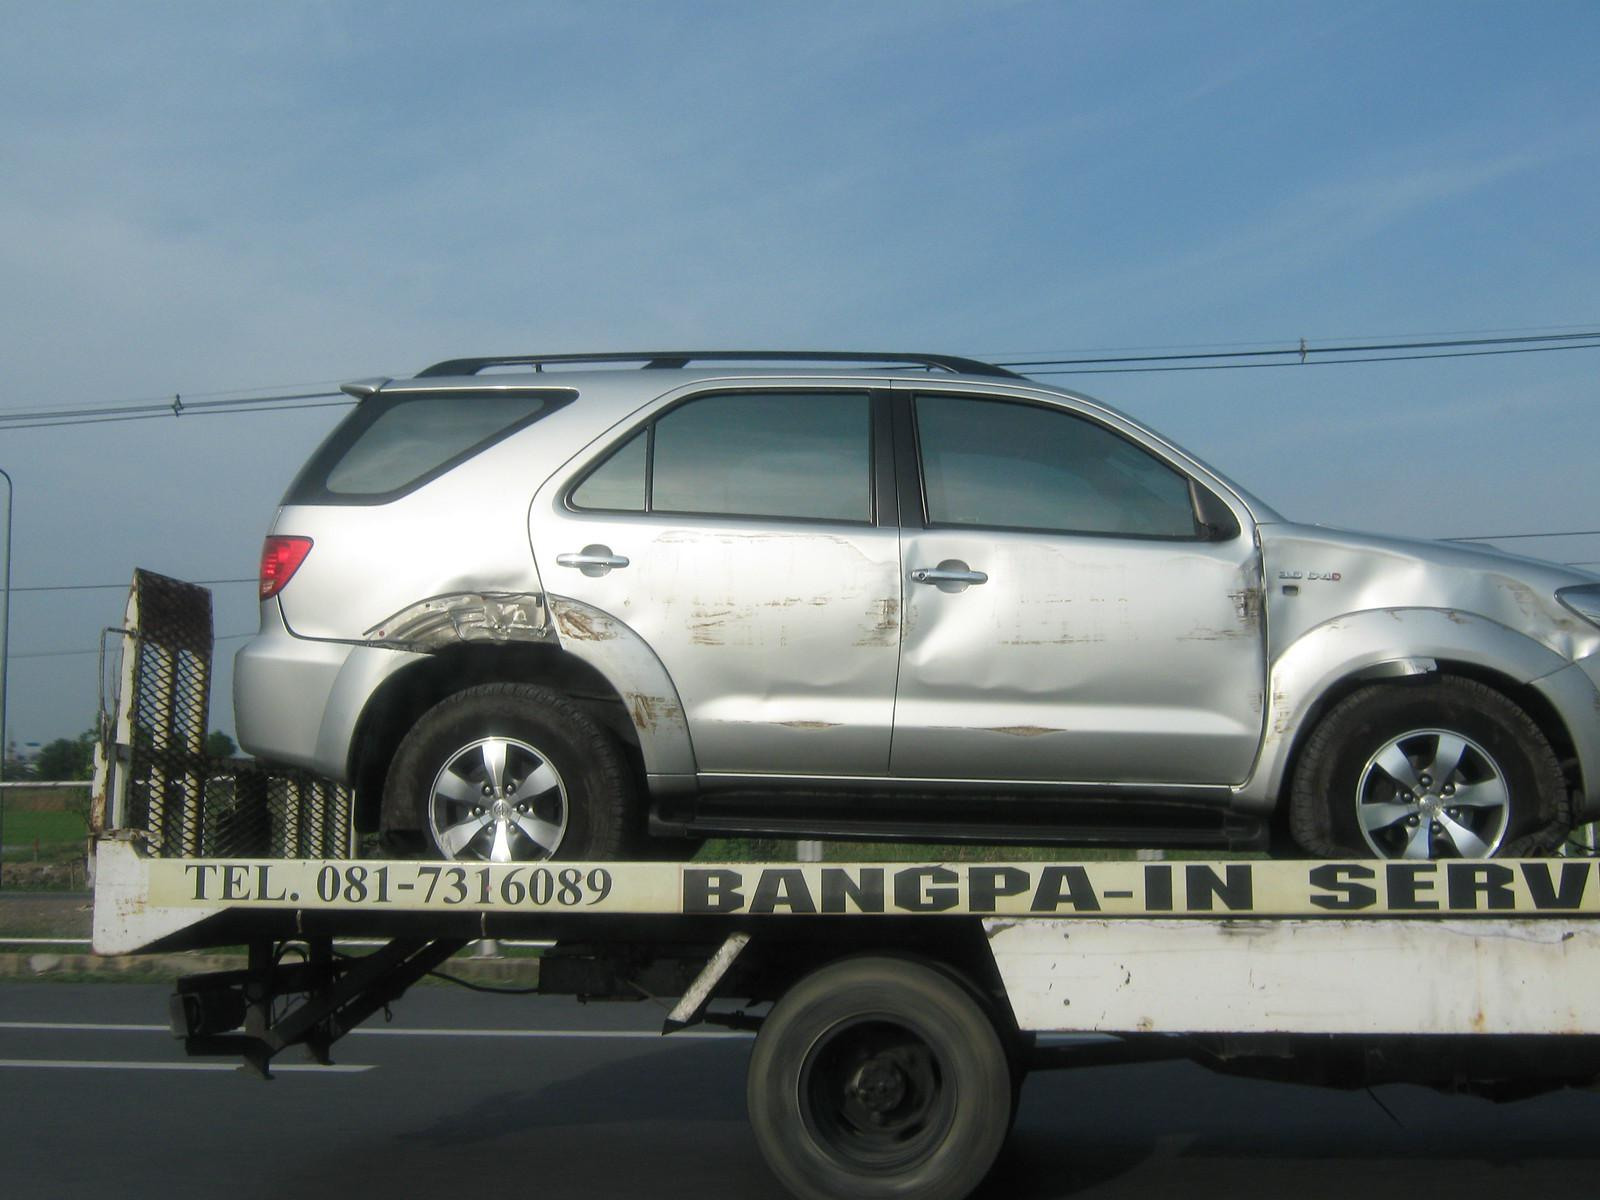doorouter-dent: (540, 533, 887, 803), (894, 529, 1233, 795)
fender-dent: (1255, 527, 1599, 708)
quaterpanel-dent: (254, 476, 547, 700)
